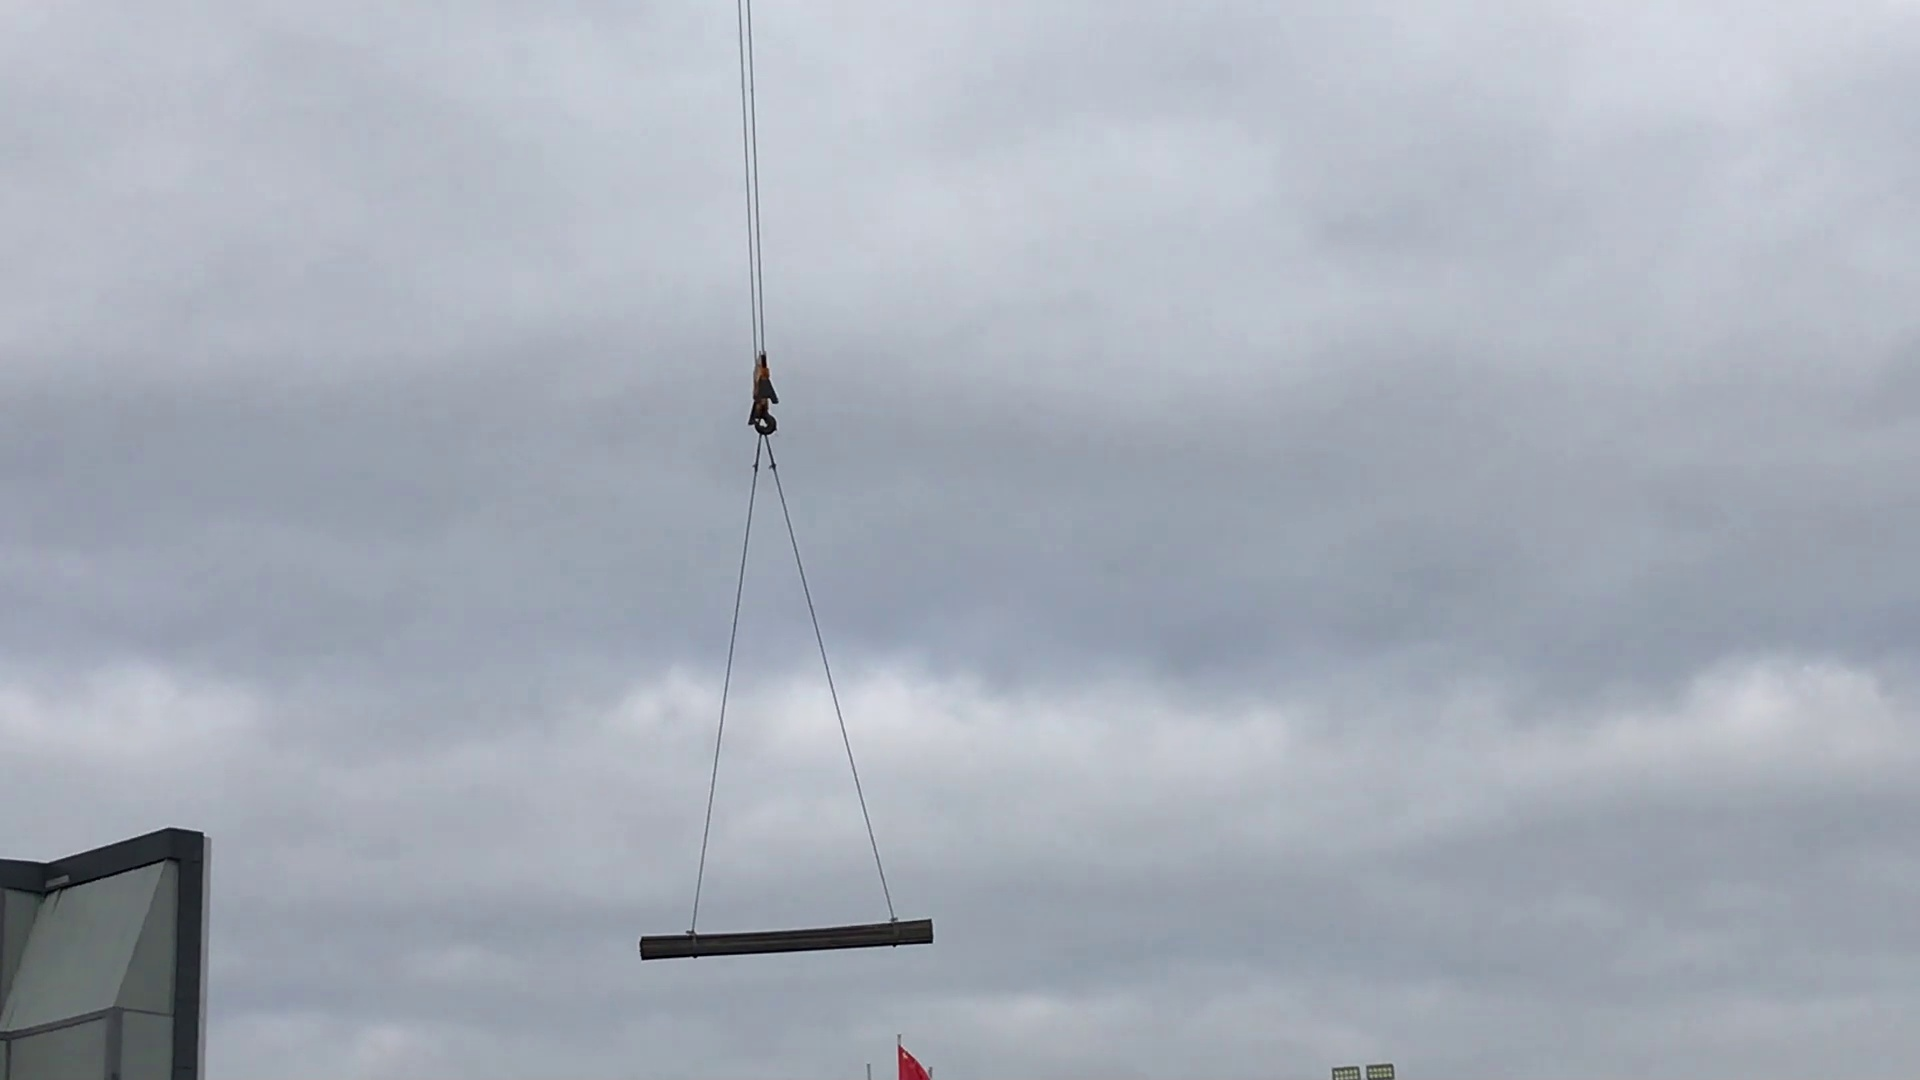hook: (736, 347, 791, 452)
rebar: (636, 909, 949, 986)
